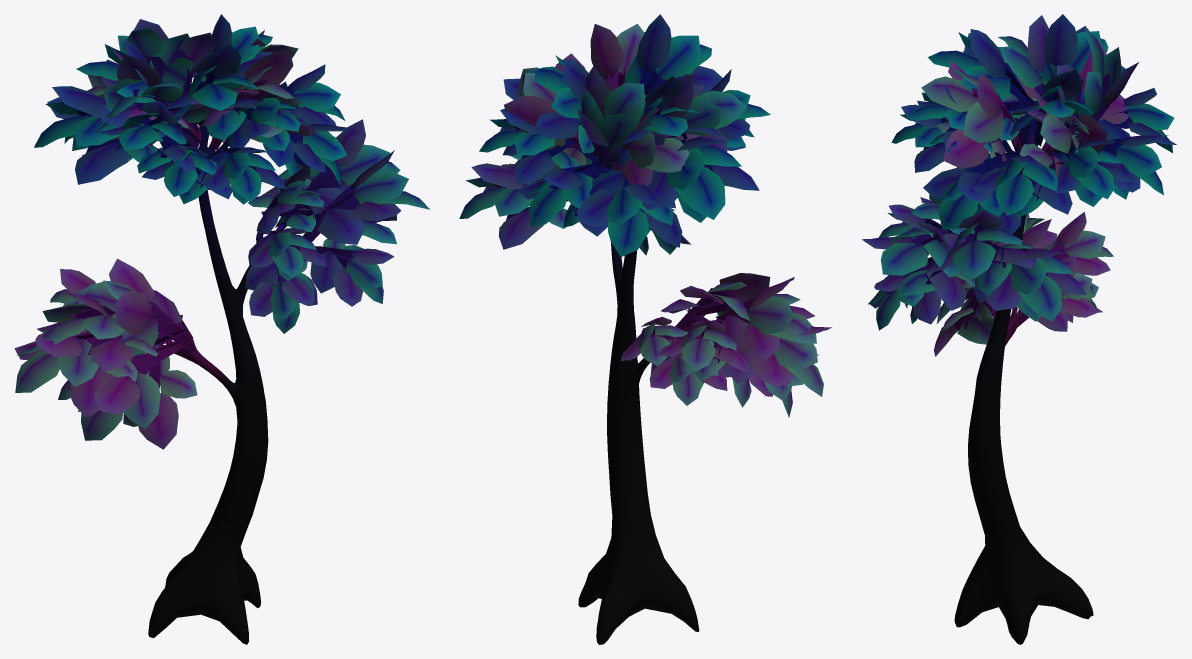
Rendered from smTreeTall.fbx.
3 renders of one model, left to right at view 1: azimuth 30°, elevation 25°; view 2: azimuth 150°, elevation 25°; view 3: azimuth 270°, elevation 25°, orthographic.
Parts seen in each view (by area): view 1: treeTall; view 2: treeTall; view 3: treeTall.
Boxes of the visible parts, x1,y1,x2,y2 form: treeTall: (14, 14, 429, 644); treeTall: (459, 14, 831, 644); treeTall: (862, 14, 1176, 644).
Size of the model in its own units: 1160 by 1837 by 888.
